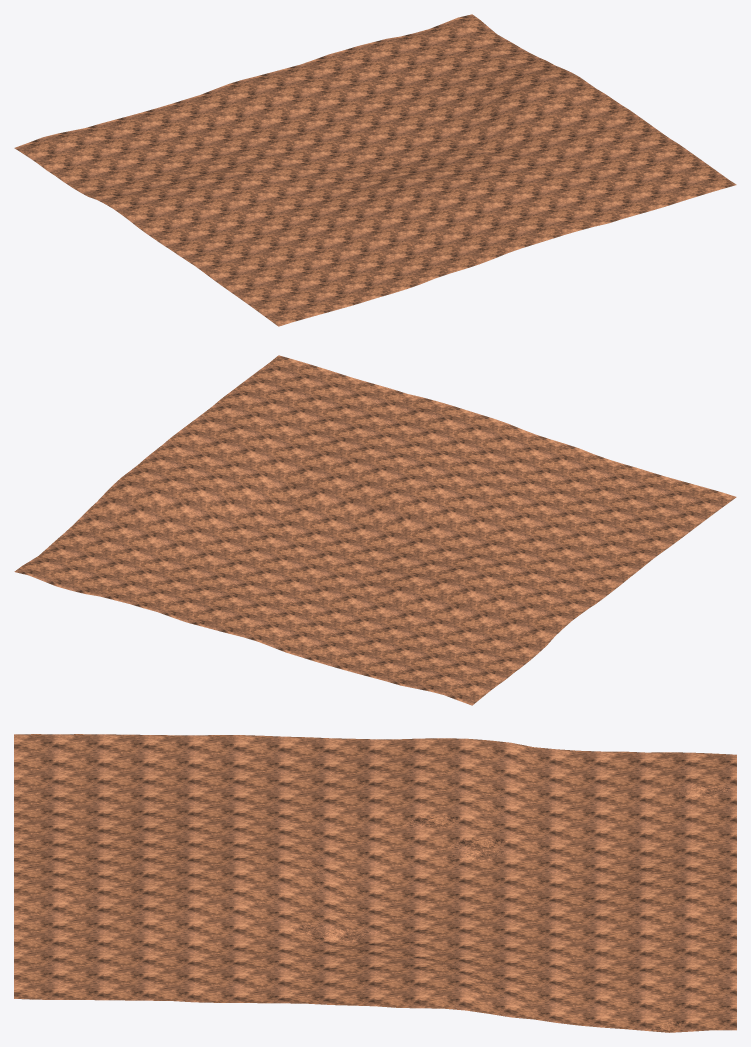
The model's file is terrain_06_21.dae.
The picture shows the model from 3 angles, top to bottom: view 1: azimuth 30°, elevation 25°; view 2: azimuth 150°, elevation 25°; view 3: azimuth 270°, elevation 25°; orthographic projection. The views are drawn at different scales.
Parts seen in each view (by area): view 1: terrain_06_21-node; view 2: terrain_06_21-node; view 3: terrain_06_21-node.
Boxes of the visible parts, x1,y1,x2,y2 form: terrain_06_21-node: [14, 14, 736, 326]; terrain_06_21-node: [14, 355, 736, 705]; terrain_06_21-node: [14, 734, 736, 1032].
Bounding box in the file's own units: 128 × 128 × 12.
Materials: 1 (1 with a texture image).
